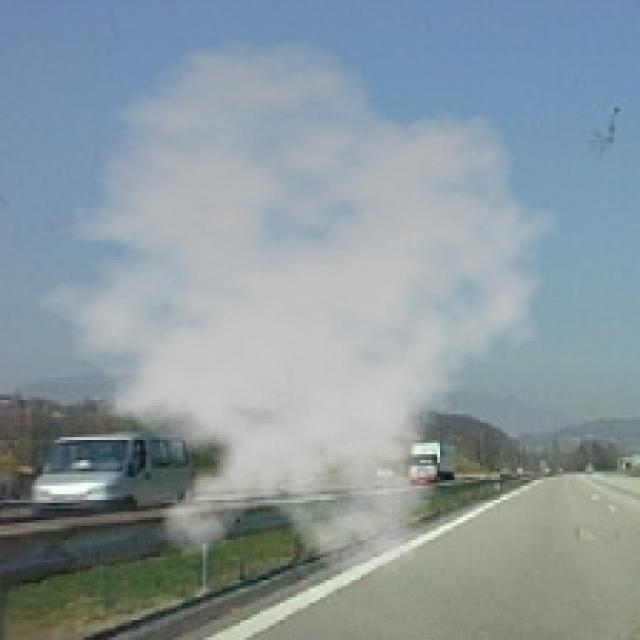smoke: (9, 37, 574, 580)
